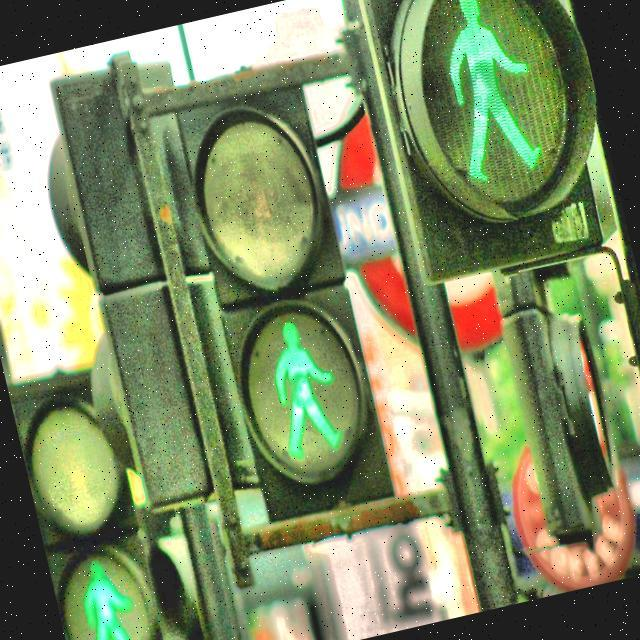green_light: (423, 0, 552, 188), (256, 310, 352, 466), (67, 549, 144, 640)
